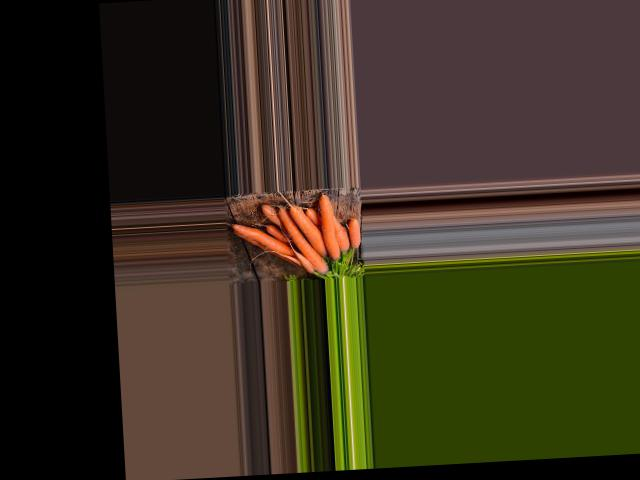carrot: (234, 217, 294, 259)
